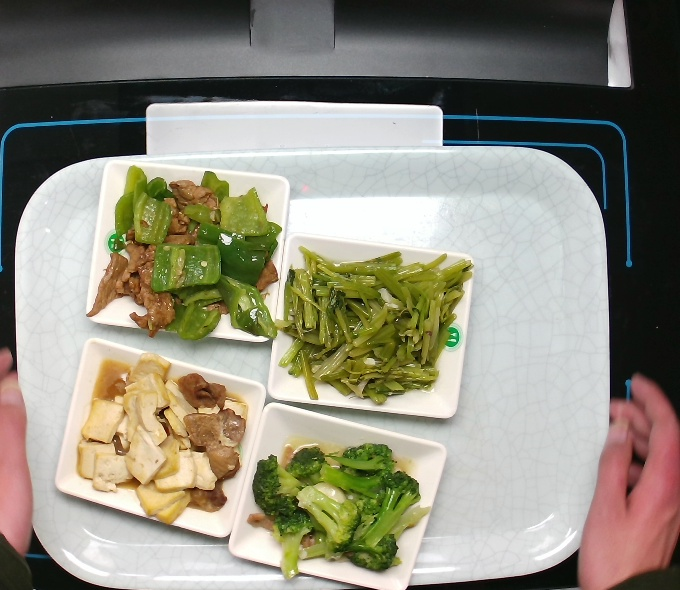wcq-DouFuRouPian: (68, 352, 248, 530)
wcq-QinCai: (281, 239, 478, 412)
wcq-QingJiaoChaoRou: (88, 166, 277, 339)
wcq-XiLanHua: (251, 439, 436, 583)
